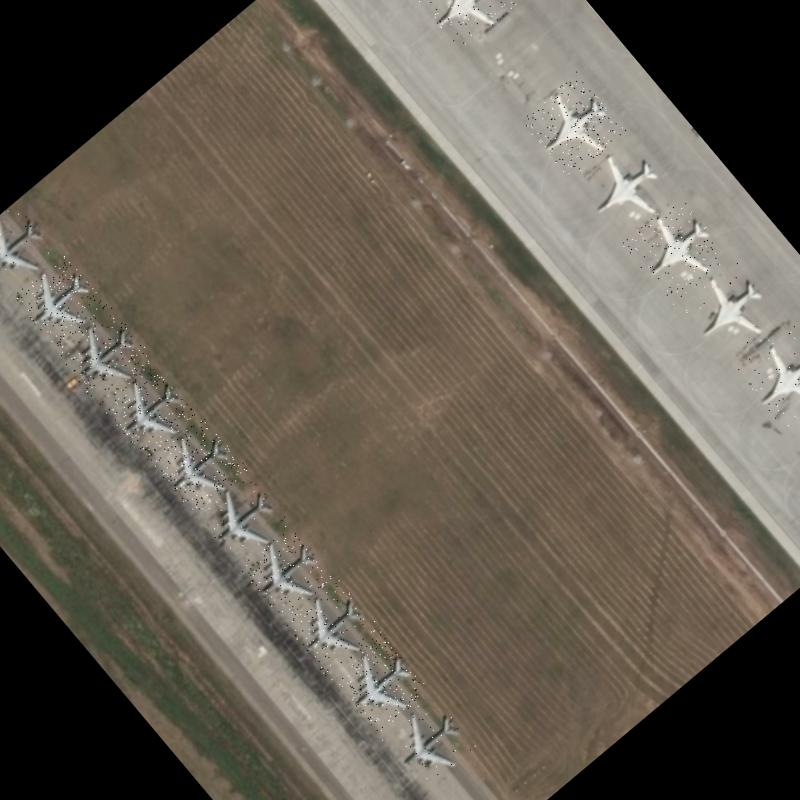A17: (53, 304, 155, 407), (282, 576, 384, 678), (379, 691, 480, 793), (149, 415, 250, 516), (330, 634, 430, 734), (100, 360, 198, 460), (196, 468, 294, 566), (12, 252, 108, 348), (239, 524, 334, 620), (0, 199, 62, 295)
A6: (620, 194, 730, 305), (519, 70, 627, 180), (571, 134, 678, 241), (676, 255, 782, 362), (734, 319, 800, 432), (409, 0, 519, 54)
